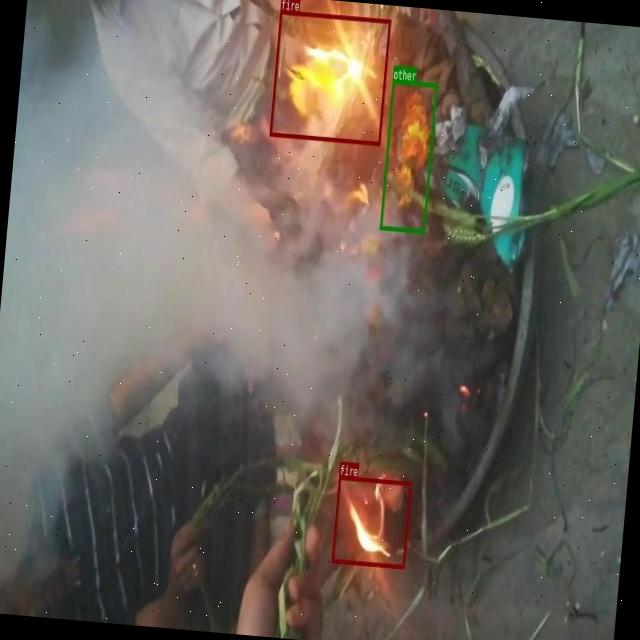fire: (268, 10, 391, 144), (331, 475, 411, 568)
